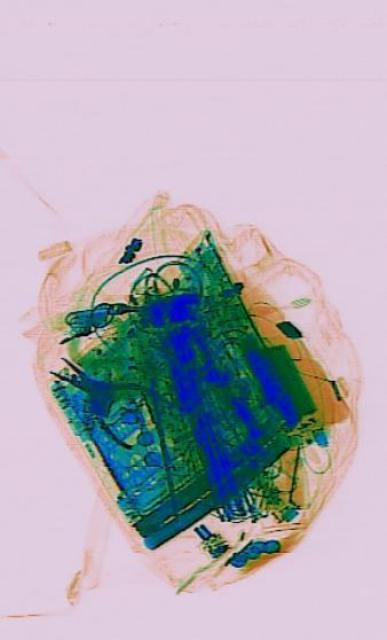Pliers: (40, 320, 175, 470)
